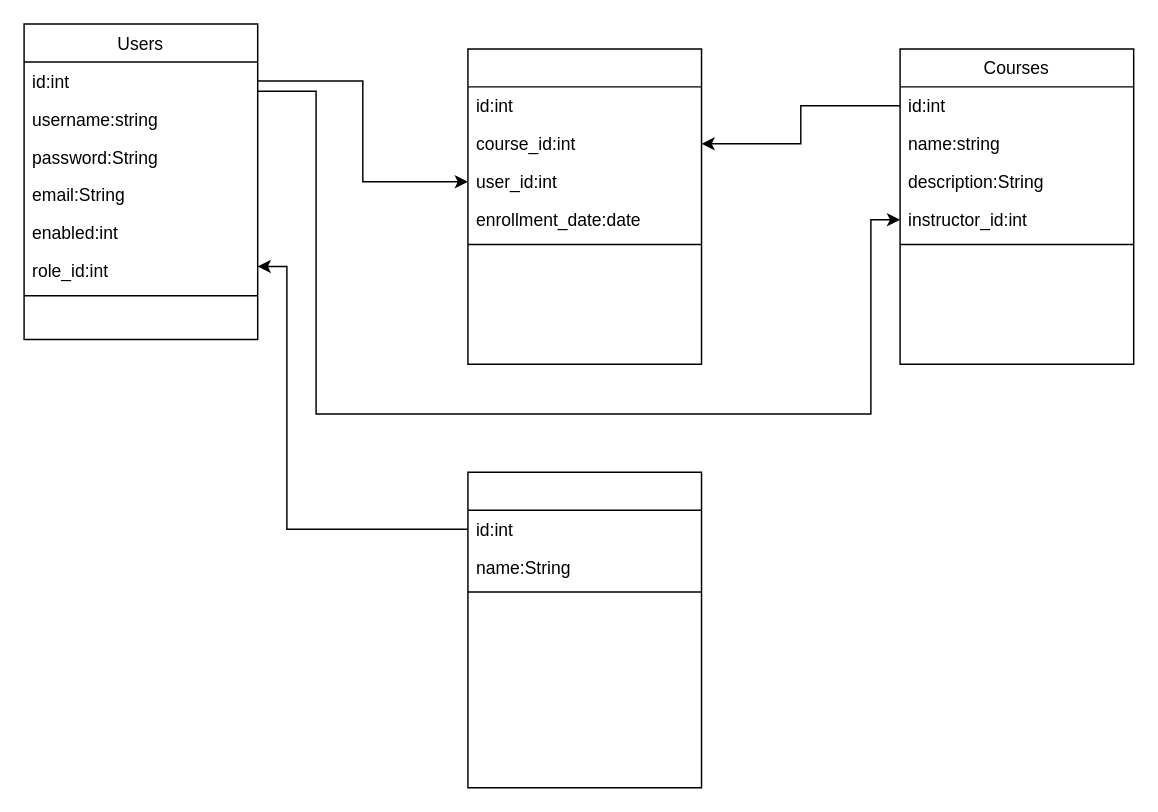
Image size: 1158x812. Some labels were removed from this diagram. Here are the shapes that lost their labels. From the top down, the box of each, then its label:
(466, 47, 702, 364): students_courses
(466, 471, 702, 788): Roles
